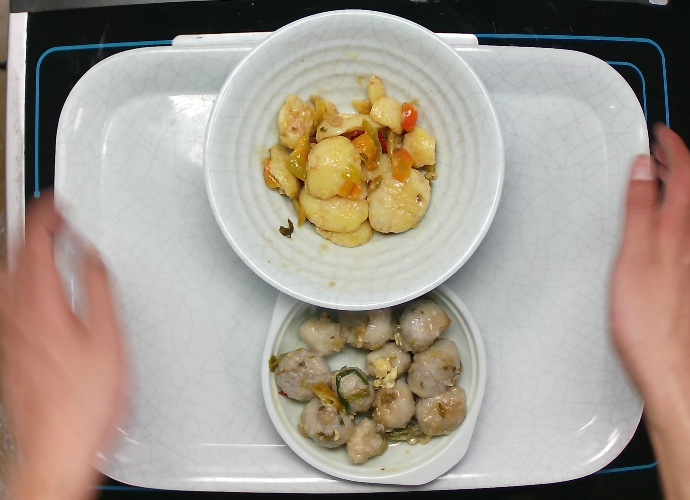JYsf-Shuang_Er_Pan: (258, 278, 492, 490)
JYsf-Xiao_Tang_Wan: (196, 6, 512, 317)
